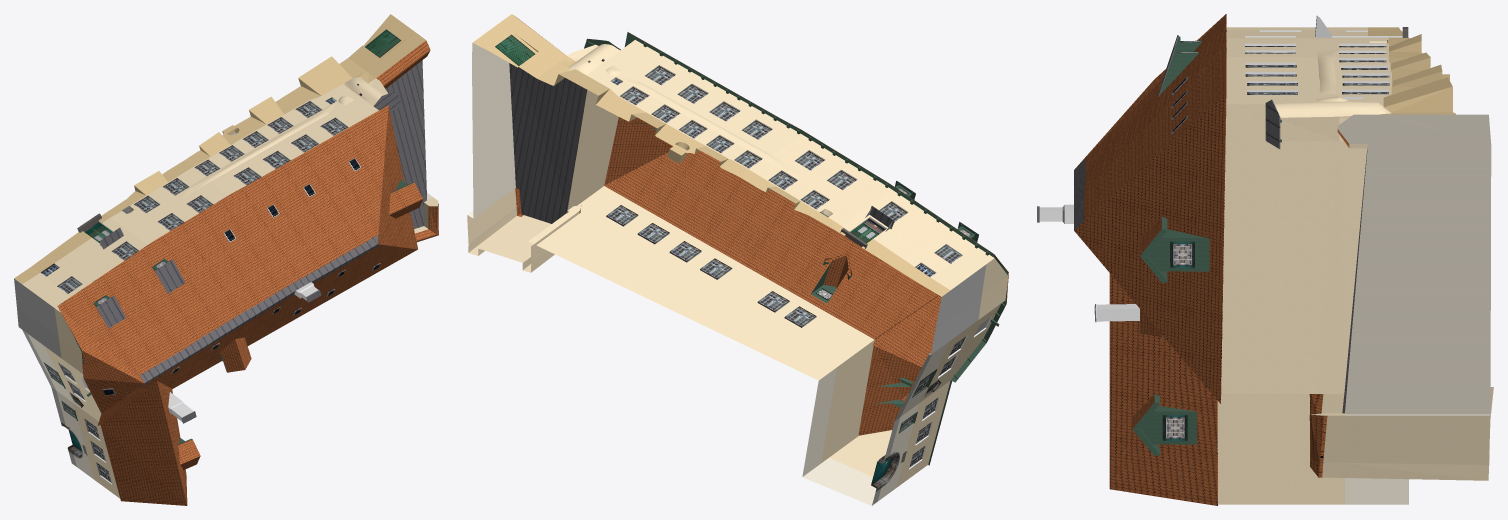
File: Pyhavaimu-6.obj
3 renders of one model, left to right at view 1: azimuth 30°, elevation 25°; view 2: azimuth 150°, elevation 25°; view 3: azimuth 270°, elevation 25°, orthographic. The views are drawn at different scales.
Visible parts, largest first — view 1: Pyhavaimu_6; view 2: Pyhavaimu_6; view 3: Pyhavaimu_6.
Boxes of the visible parts, bbox=[...] form: Pyhavaimu_6: bbox=[14, 14, 438, 505]; Pyhavaimu_6: bbox=[467, 14, 1008, 505]; Pyhavaimu_6: bbox=[1037, 14, 1493, 505].
Size of the model in its own units: 38.28 by 31.61 by 19.59.
